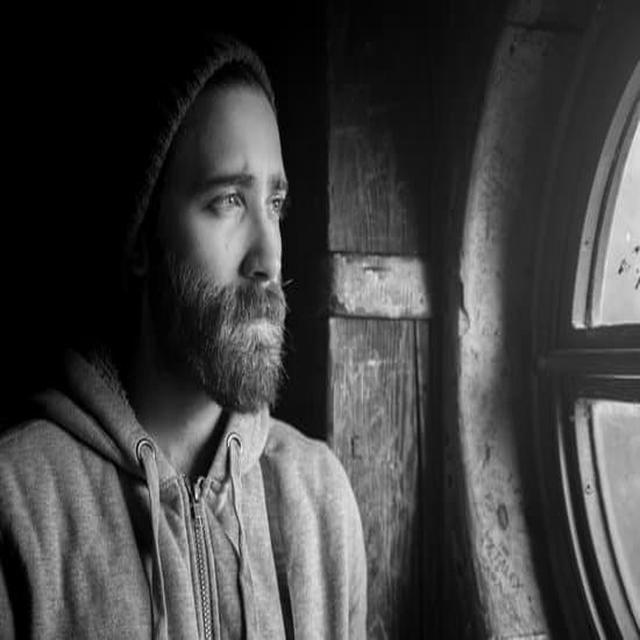Sadness: (166, 89, 288, 393)
